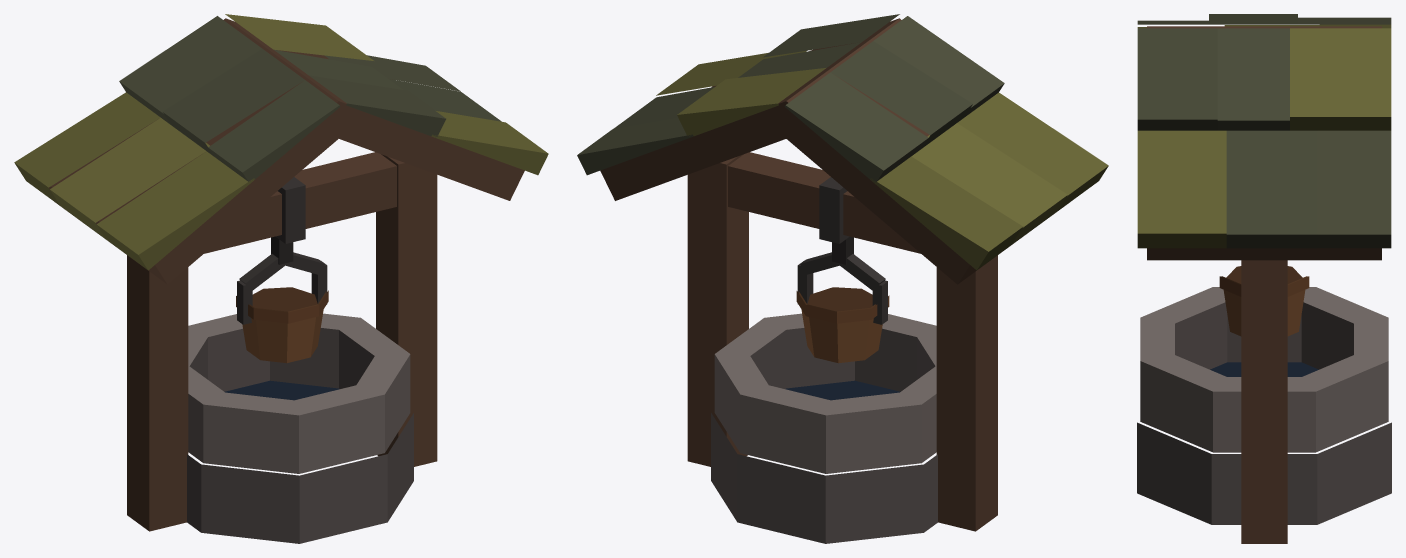
The model's file is well.glb.
The picture shows the model from 3 angles, left to right: view 1: azimuth 30°, elevation 25°; view 2: azimuth 150°, elevation 25°; view 3: azimuth 270°, elevation 25°; orthographic projection. The views are drawn at different scales.
Visible parts, largest first — view 1: lit; view 2: lit; view 3: lit.
Boxes of the visible parts, box(x1,y1,x2,y2) form: lit: box(14, 14, 548, 543); lit: box(577, 14, 1108, 543); lit: box(1137, 14, 1391, 543).
Bounding box in the file's own units: 2.65 × 2.63 × 1.37.
